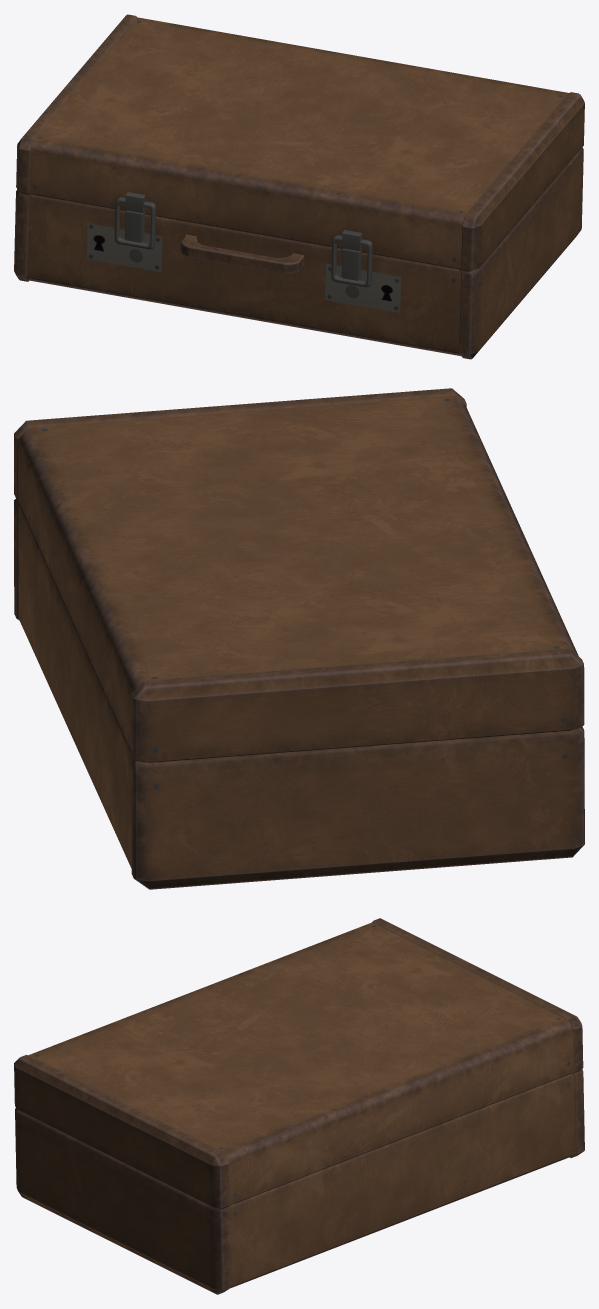
The model's file is Suitcase_8.glb.
3 views of the same model, one above another, from view 1: azimuth 30°, elevation 25°; view 2: azimuth 150°, elevation 25°; view 3: azimuth 270°, elevation 25° (orthographic). The views are drawn at different scales.
Parts seen in each view (by area): view 1: Object_19; view 2: Object_19; view 3: Object_19.
Boxes of the visible parts, x1=… form: Object_19: x1=14, y1=14, x2=584, y2=359; Object_19: x1=14, y1=388, x2=584, y2=889; Object_19: x1=14, y1=918, x2=584, y2=1294.
Bounding box in the file's own units: 8.3 × 2.52 × 8.58.
Materials: 1 (1 with a texture image).
